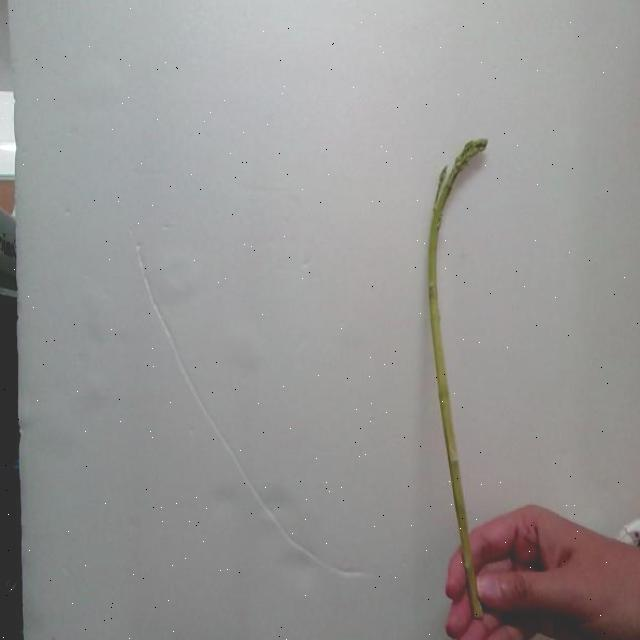aspargus: (427, 140, 489, 595)
